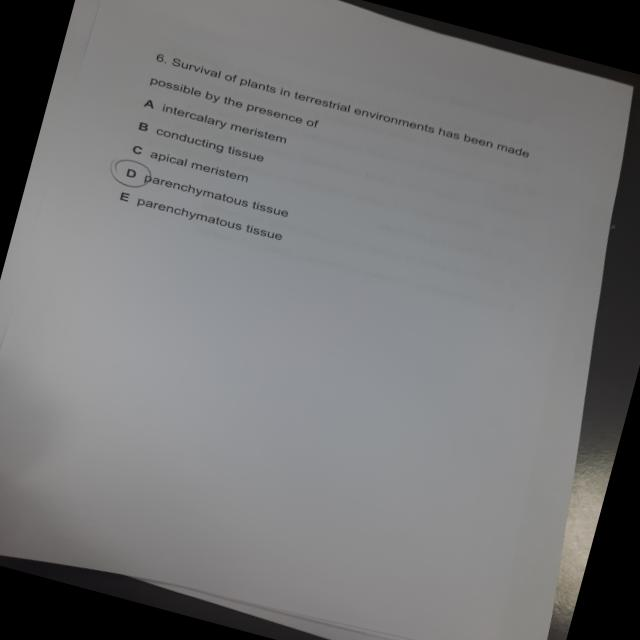D: (104, 155, 160, 196)
